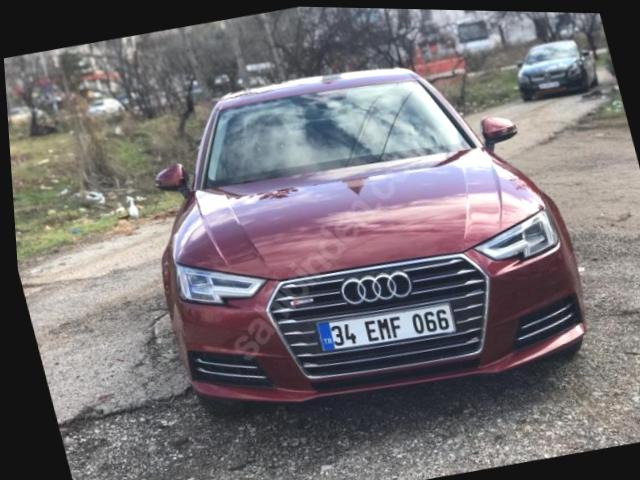plaka: (316, 303, 455, 352)
